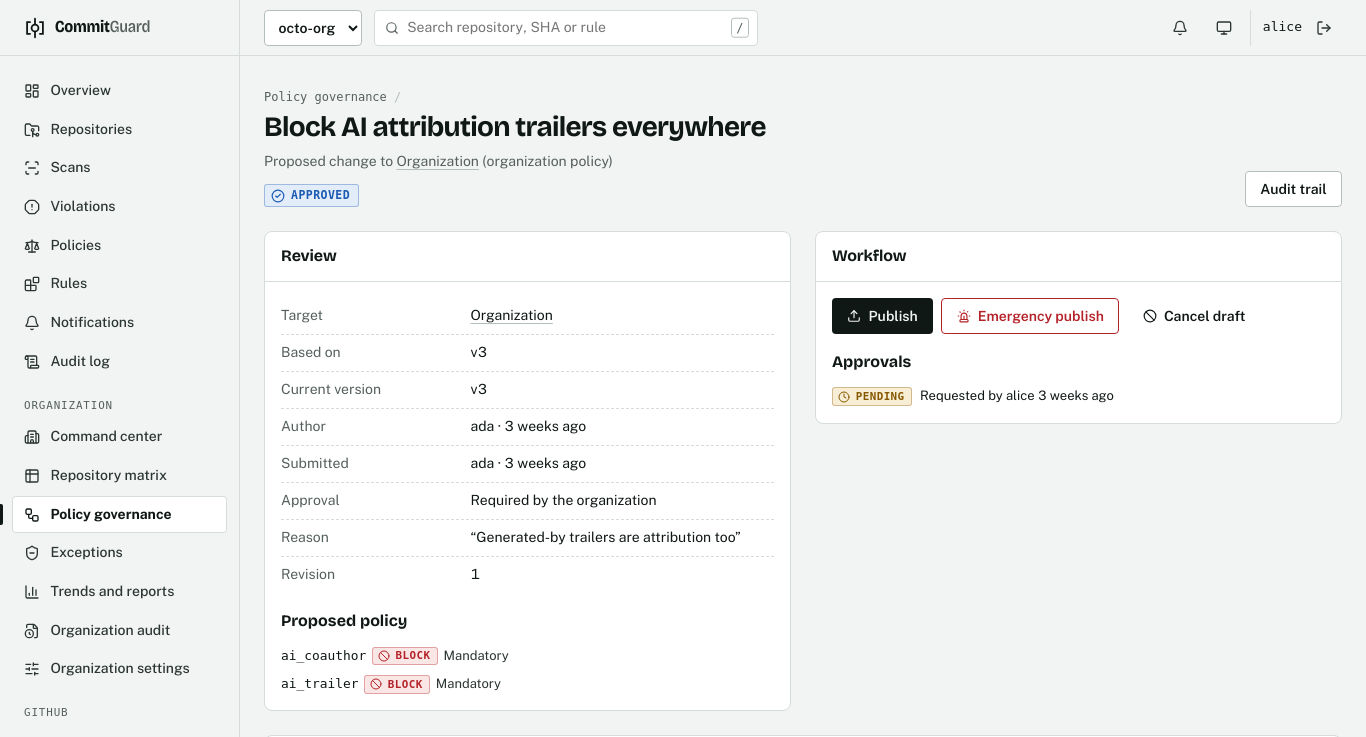
Test: policy draft review › asks for a new sign-in when the server requires it
The width and height of the screenshot is (1366, 737).
Click the button "Publish".
click(883, 316)  # box [832,298,933,334]
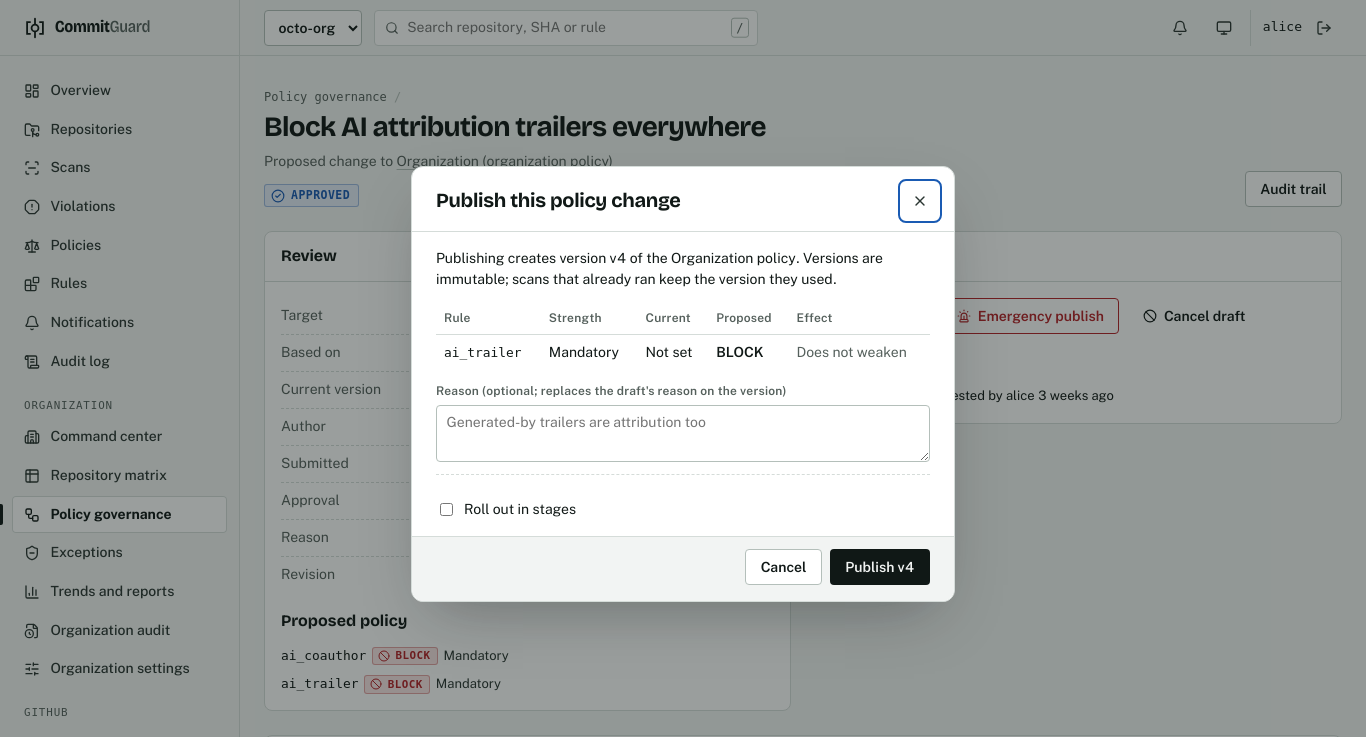
Click the button "Publish v4".
click(880, 567)  # box [830,549,930,585]
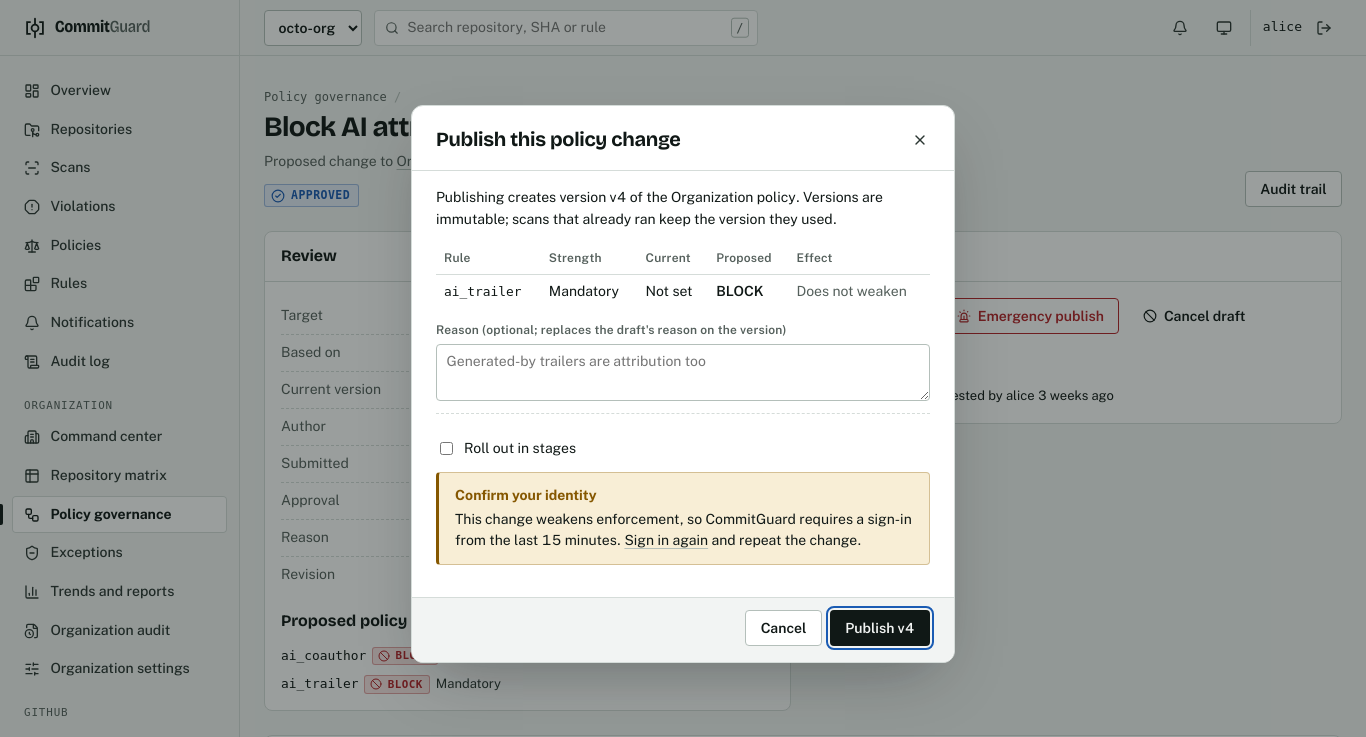
Expected: the text "Confirm your identity" is shown, [455,487,597,503]
